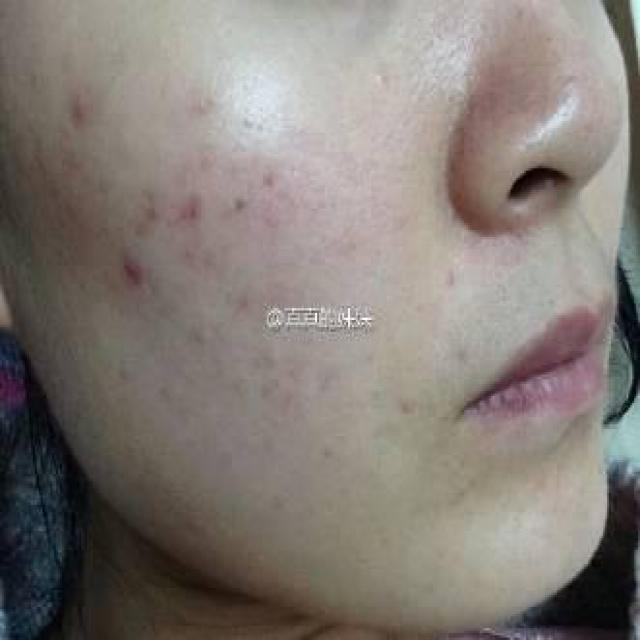Pimples: (114, 240, 150, 294), (63, 87, 92, 133), (363, 58, 395, 96), (393, 392, 418, 419)
